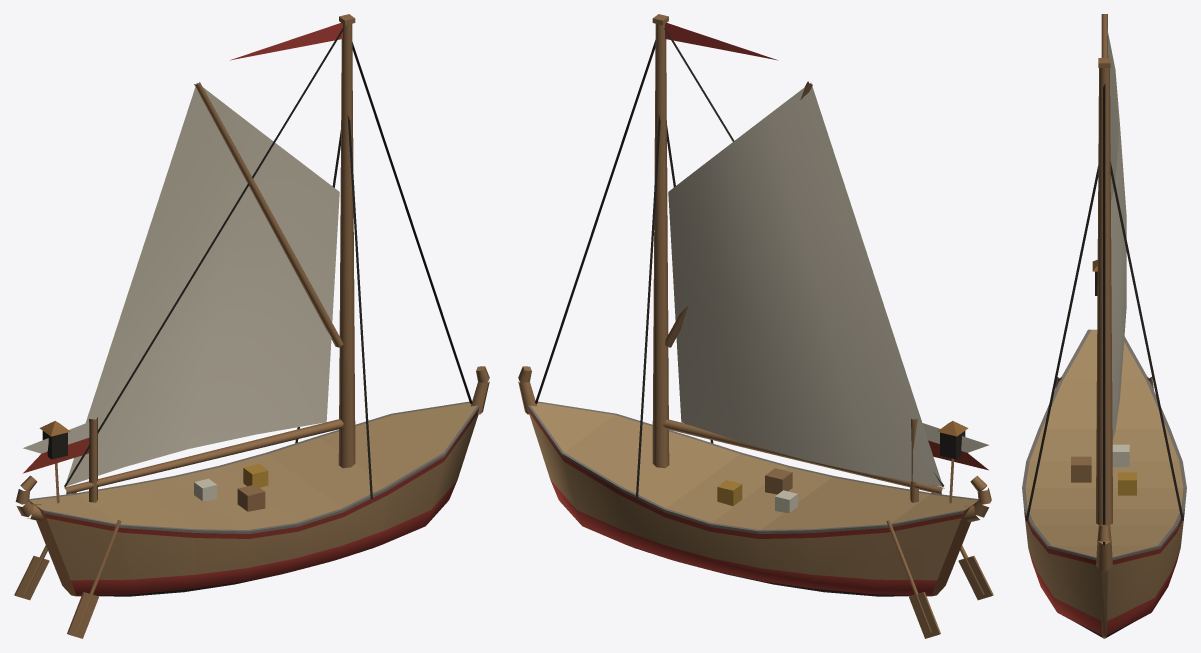
The model's file is hull_other_sprit_boat.glb.
3 renders of one model, left to right at view 1: azimuth 30°, elevation 25°; view 2: azimuth 150°, elevation 25°; view 3: azimuth 270°, elevation 25°, orthographic. The views are drawn at different scales.
Parts seen in each view (by area): view 1: sail_main, hull, mast, deck, boom_spar, rigging, gaff, flag; view 2: sail_main, hull, mast, deck, rigging, flag, boom_spar; view 3: hull, mast, sail_main, rigging, deck, gaff.
Part boxes in pixels (x1,y1,x2,y2): sail_main: [66, 83, 339, 486]; hull: [15, 366, 489, 596]; mast: [89, 14, 355, 502]; deck: [14, 421, 268, 638]; boom_spar: [64, 27, 343, 494]; rigging: [295, 42, 472, 499]; gaff: [194, 82, 343, 347]; flag: [23, 22, 342, 473]; sail_main: [668, 82, 942, 486]; hull: [518, 366, 991, 596]; mast: [652, 14, 918, 502]; deck: [717, 421, 993, 638]; rigging: [535, 40, 713, 499]; flag: [665, 22, 988, 470]; boom_spar: [663, 28, 944, 494]; hull: [1022, 329, 1186, 638]; mast: [1096, 58, 1112, 525]; sail_main: [1106, 24, 1126, 438]; rigging: [1025, 84, 1183, 545]; deck: [1055, 260, 1153, 495]; gaff: [1101, 14, 1108, 57].
Size of the model in its own units: 7.97 by 8.55 by 2.32.
